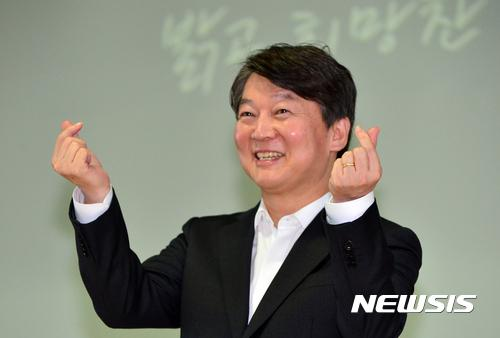heart gesture: (354, 123, 382, 148), (59, 118, 86, 137)
